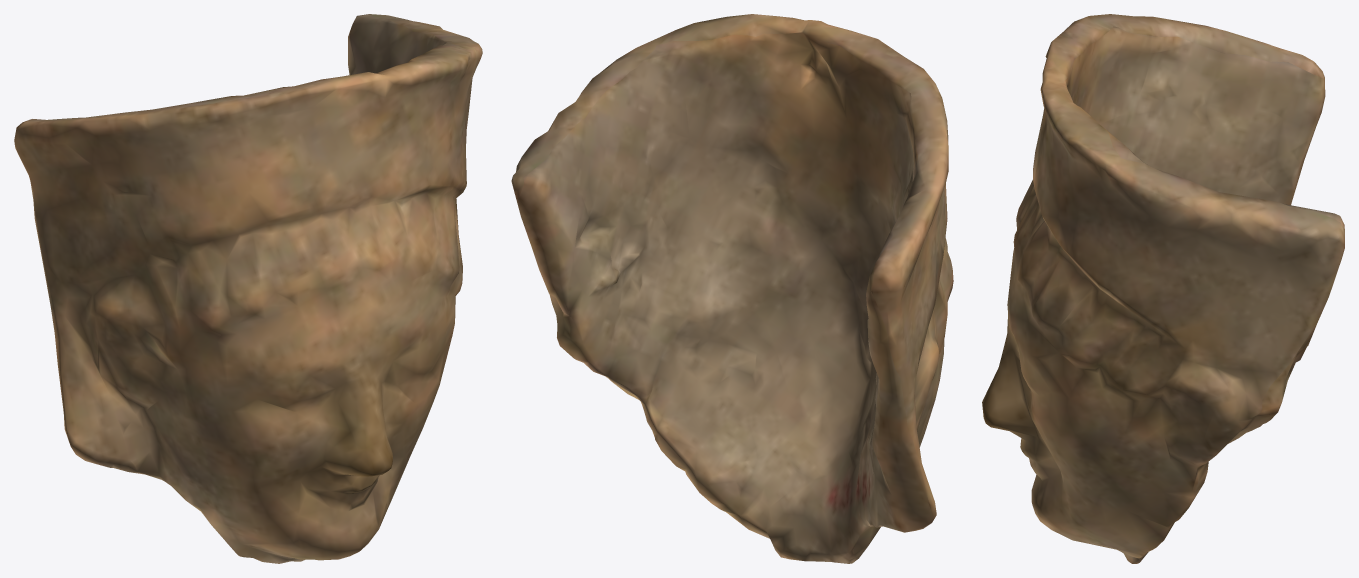
The model's file is cma-selinus-terracotta-mask.lod1.glb.
3 renders of one model, left to right at view 1: azimuth 30°, elevation 25°; view 2: azimuth 150°, elevation 25°; view 3: azimuth 270°, elevation 25°, orthographic. The views are drawn at different scales.
Visible parts, largest first — view 1: 1943.451_mask; view 2: 1943.451_mask; view 3: 1943.451_mask.
Part boxes in pixels (left/top/right/bottom): 1943.451_mask: left=14, top=14, right=482, bottom=563; 1943.451_mask: left=511, top=14, right=953, bottom=563; 1943.451_mask: left=982, top=14, right=1344, bottom=563.
Size of the model in its own units: 0.0868 by 0.108 by 0.0713.
Materials: 1 (1 with a texture image).
